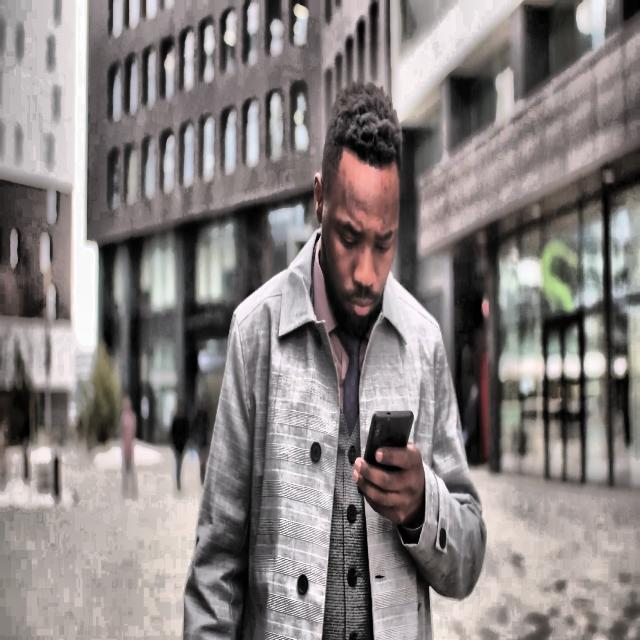Phone: (358, 408, 416, 500)
